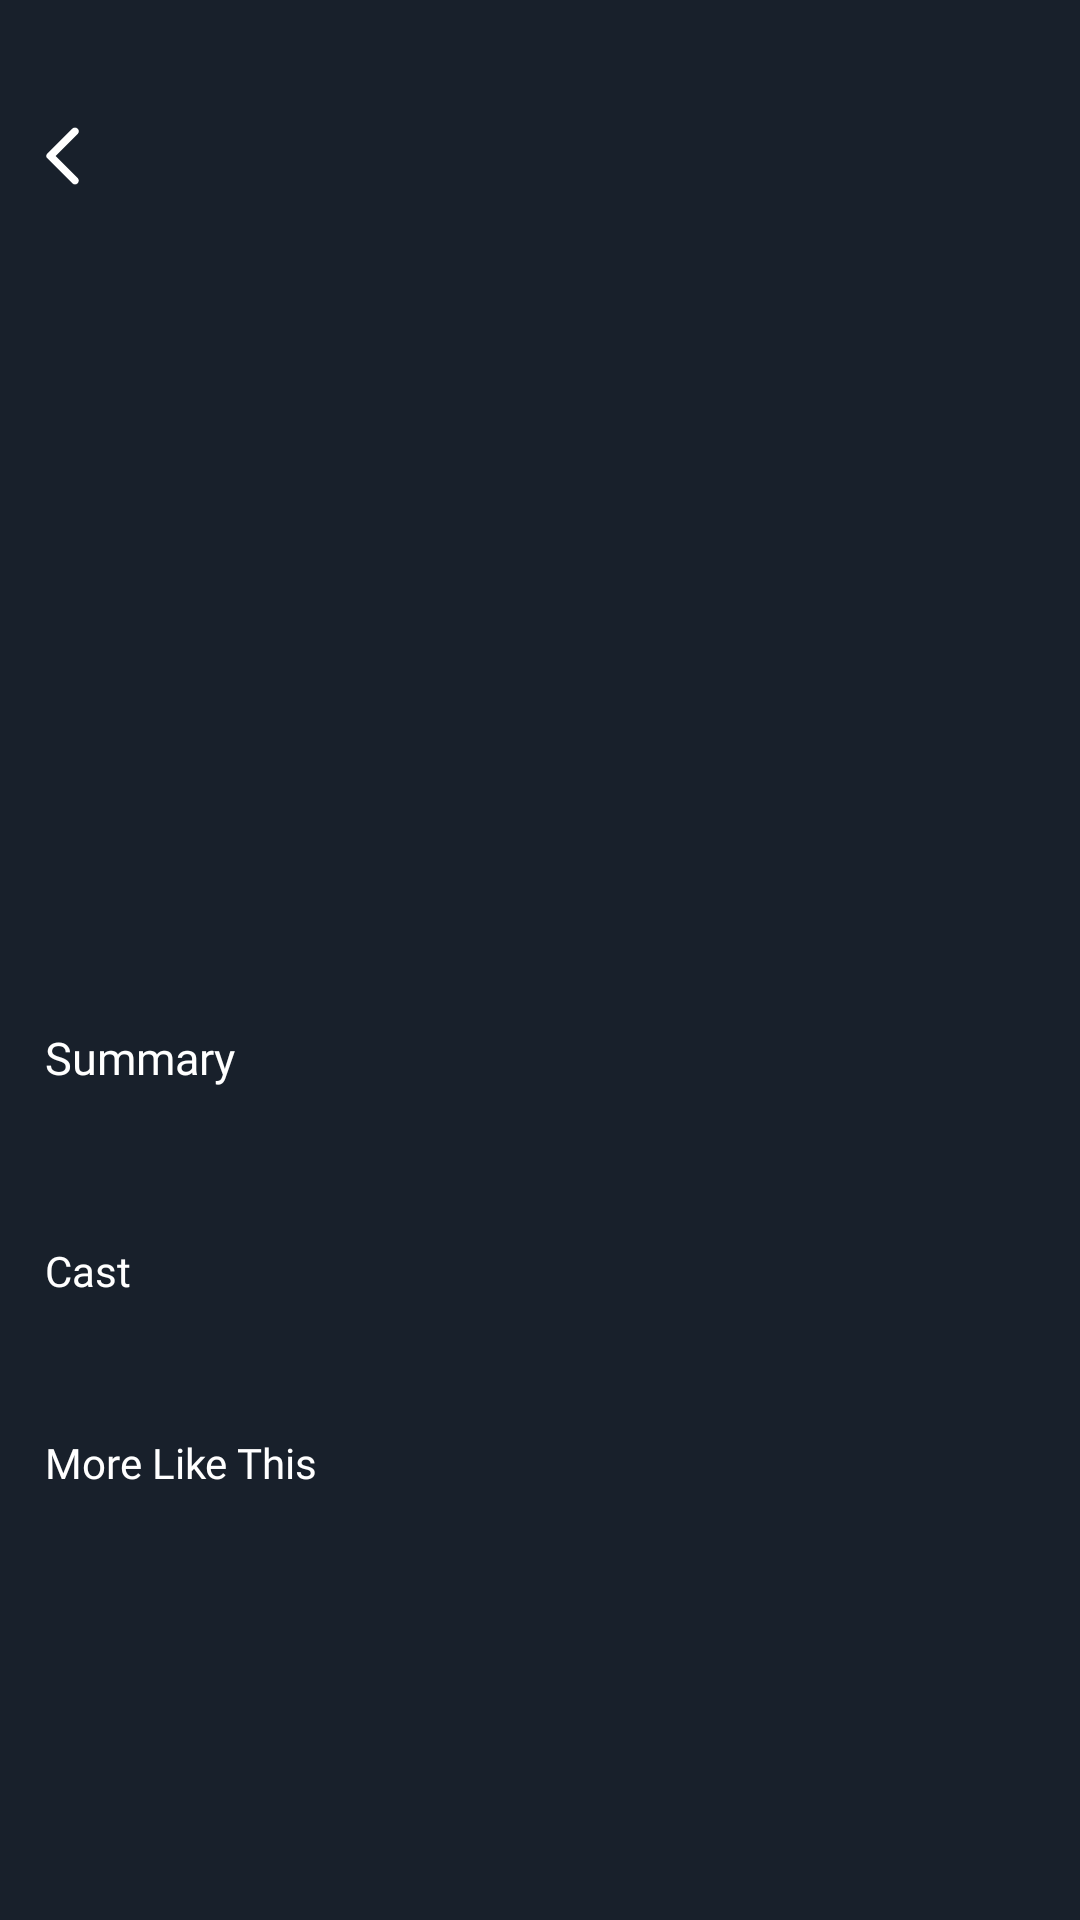

Screen size 1080×1920. Icon name, then its box in pixels as {"left": x1, "top": y1, "right": x2, "bottom": y2}:
symbols arrow back rounded: {"left": 46, "top": 127, "right": 79, "bottom": 185}
